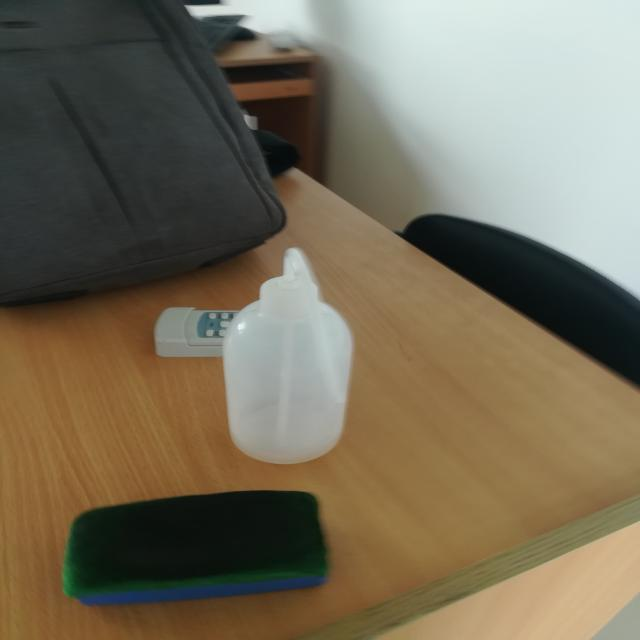Wash_Bottle: (196, 202, 384, 492)
